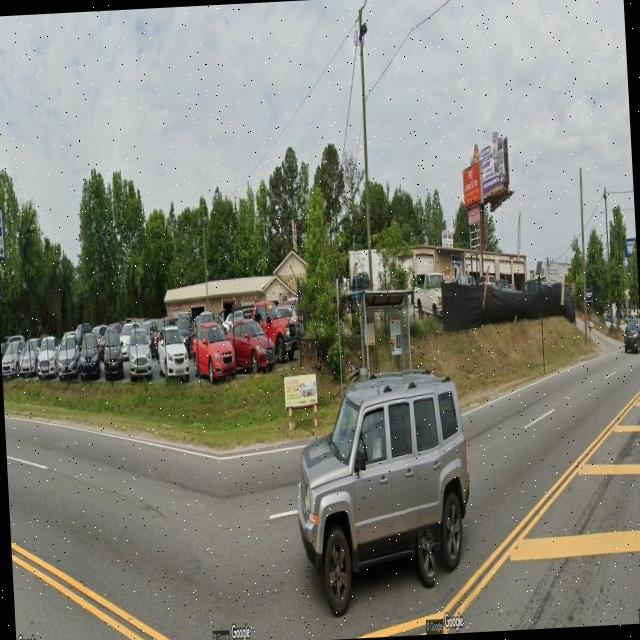seating: (283, 373, 320, 432)
shelter: (357, 287, 418, 379)
trash_can: (359, 367, 368, 382)
